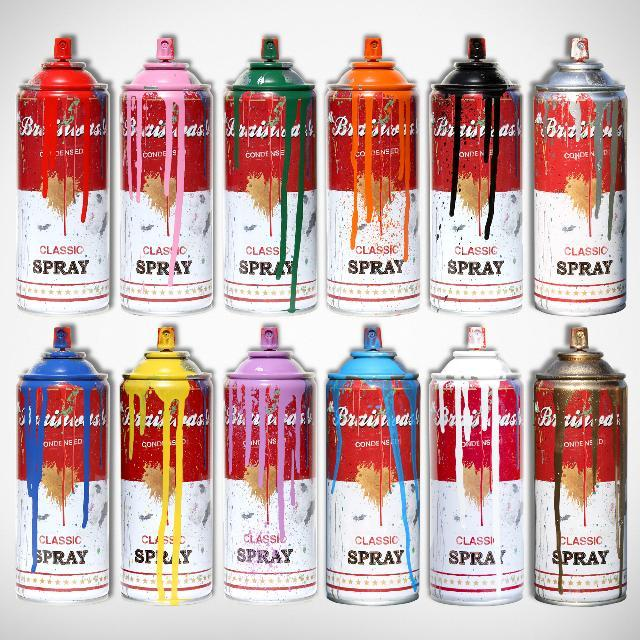chemical_spray_can: (430, 36, 524, 315), (326, 327, 420, 606), (430, 327, 524, 606), (327, 37, 421, 315), (535, 328, 628, 607), (535, 37, 628, 315), (15, 327, 108, 605), (224, 327, 317, 605), (15, 37, 108, 314), (119, 37, 212, 314), (224, 37, 317, 314), (120, 327, 212, 606)
